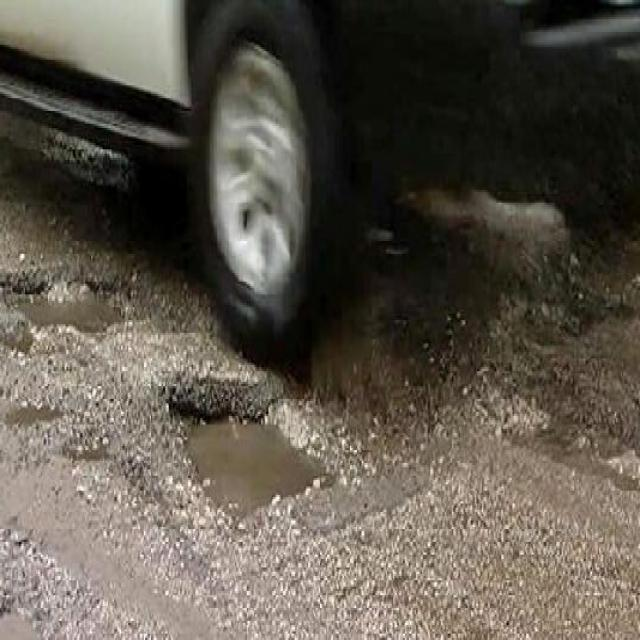pothole: (170, 375, 348, 527), (1, 262, 136, 360), (64, 420, 112, 463), (2, 399, 68, 429), (1, 601, 53, 638)
